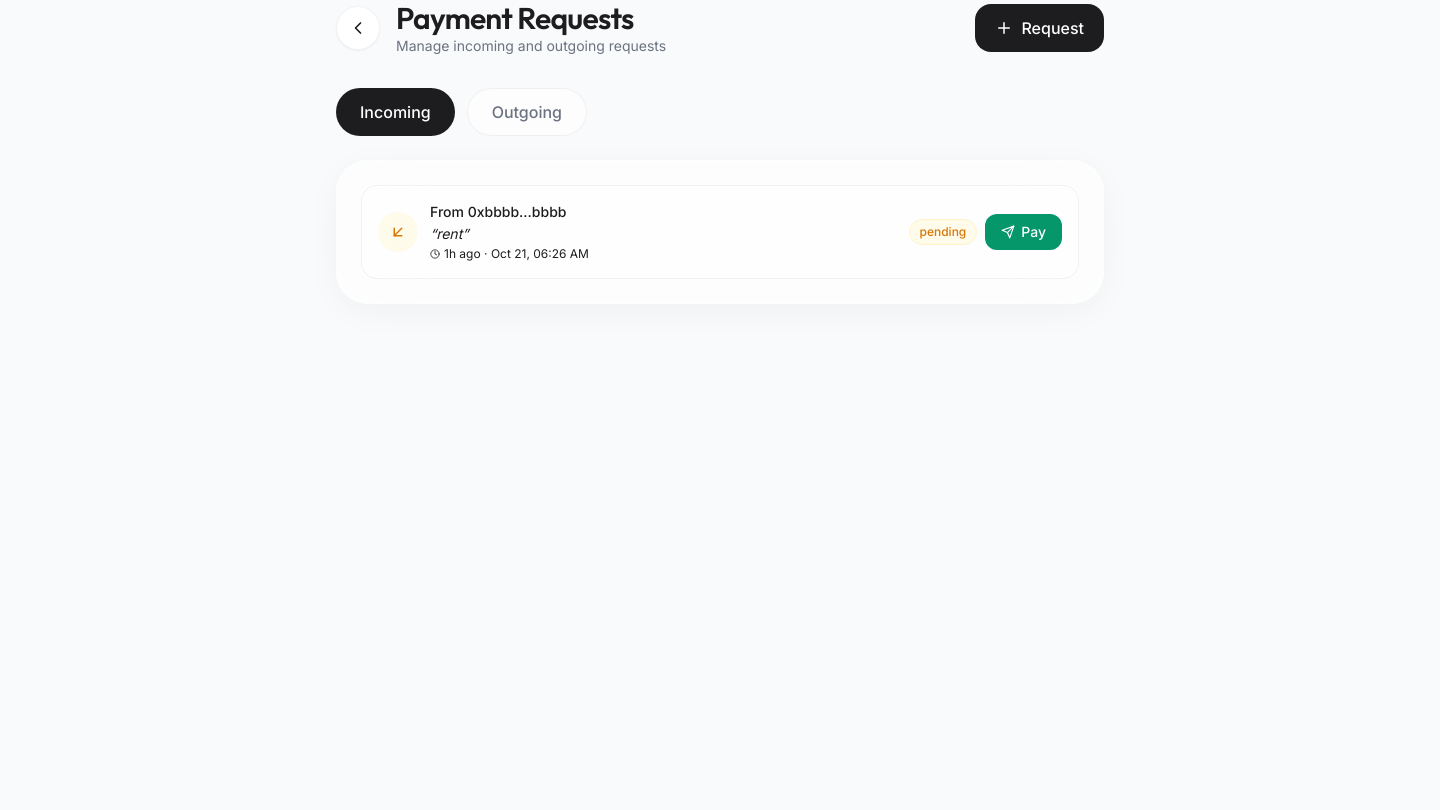
Scenario: Requests — incoming Pay action (§15.x) › clicking Pay opens FulfillModal with the selected request
What coordinates should you click on to do the following:
click the button "Pay"
I would click on:
 (1024, 232)
Its box is [985,214,1062,250].
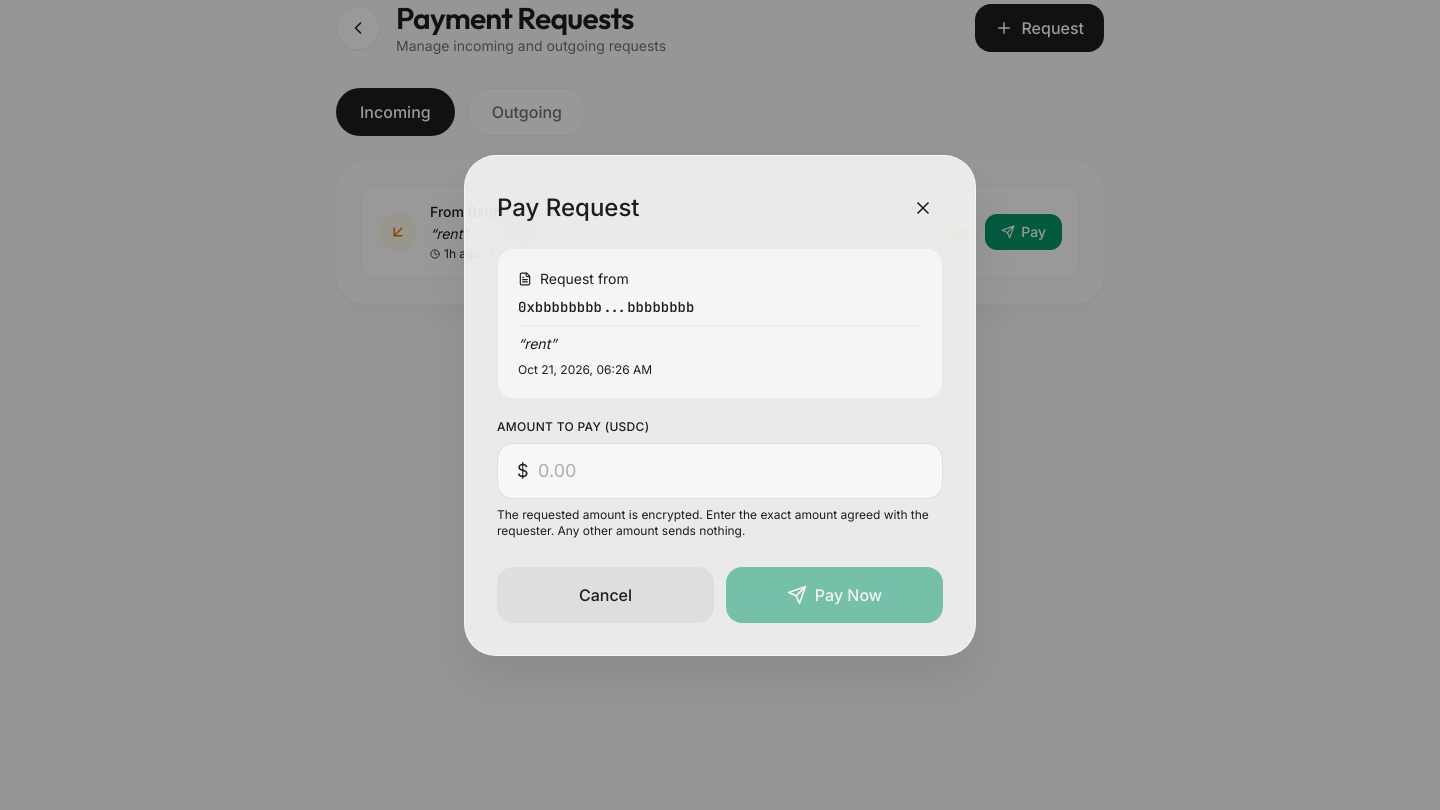
Expected: the text "Pay Request" is shown, [497,192,640,224]
Expected: the text "Request from" is shown, [540,268,629,288]
